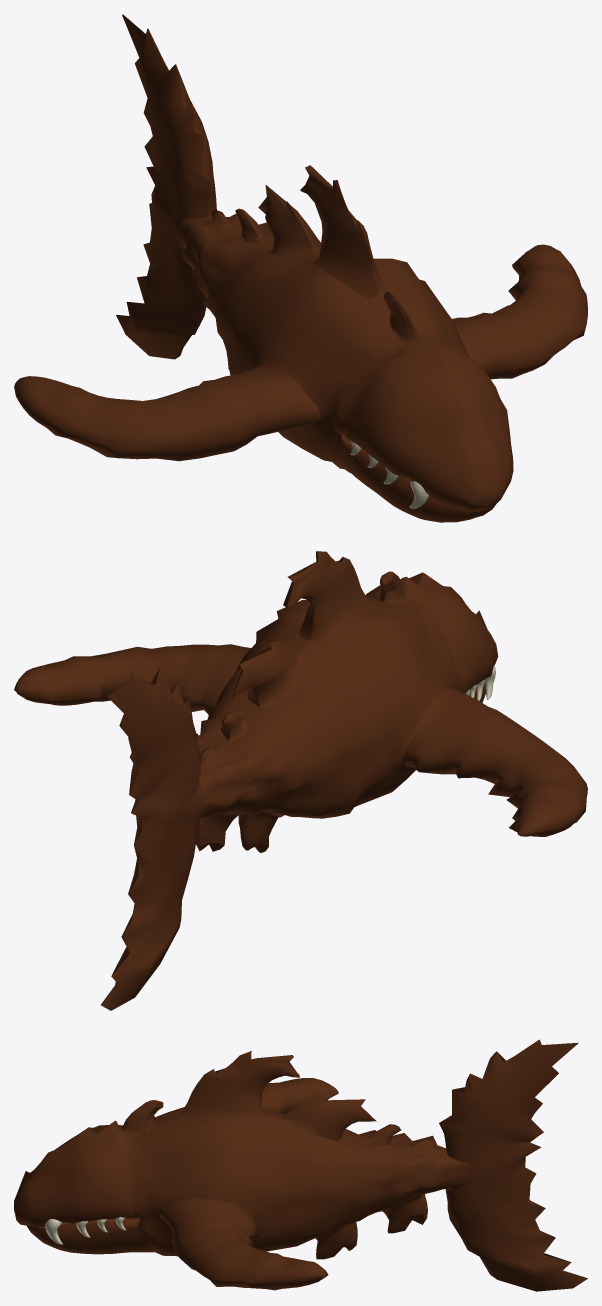
The model's file is crimson.fbx.
3 renders of one model, top to bottom at view 1: azimuth 30°, elevation 25°; view 2: azimuth 150°, elevation 25°; view 3: azimuth 270°, elevation 25°, orthographic. The views are drawn at different scales.
Visible parts, largest first — view 1: crimson_low; view 2: crimson_low; view 3: crimson_low, crimsonteeth_low.
Boxes of the visible parts, x1,y1,x2,y2 form: crimson_low: [14, 14, 587, 522]; crimson_low: [14, 551, 587, 1010]; crimson_low: [14, 1039, 587, 1291]; crimsonteeth_low: [45, 1217, 125, 1244].
Size of the model in its own units: 293 by 168 by 348.
